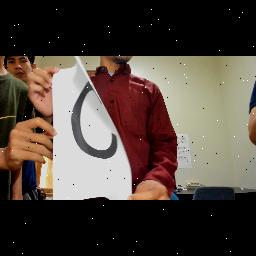c: (70, 88, 120, 166)
